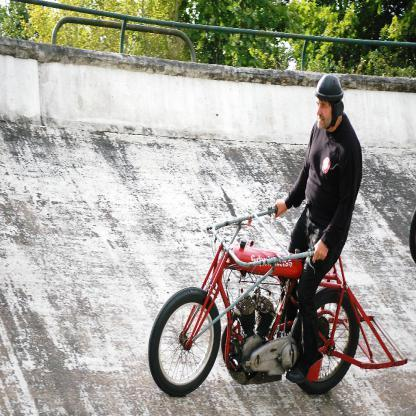motorcycle: (139, 223, 392, 411)
